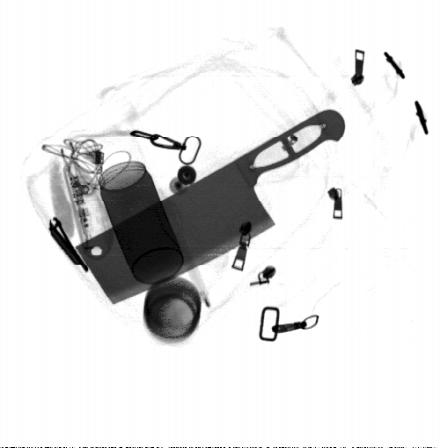Knife: (75, 108, 347, 307)
